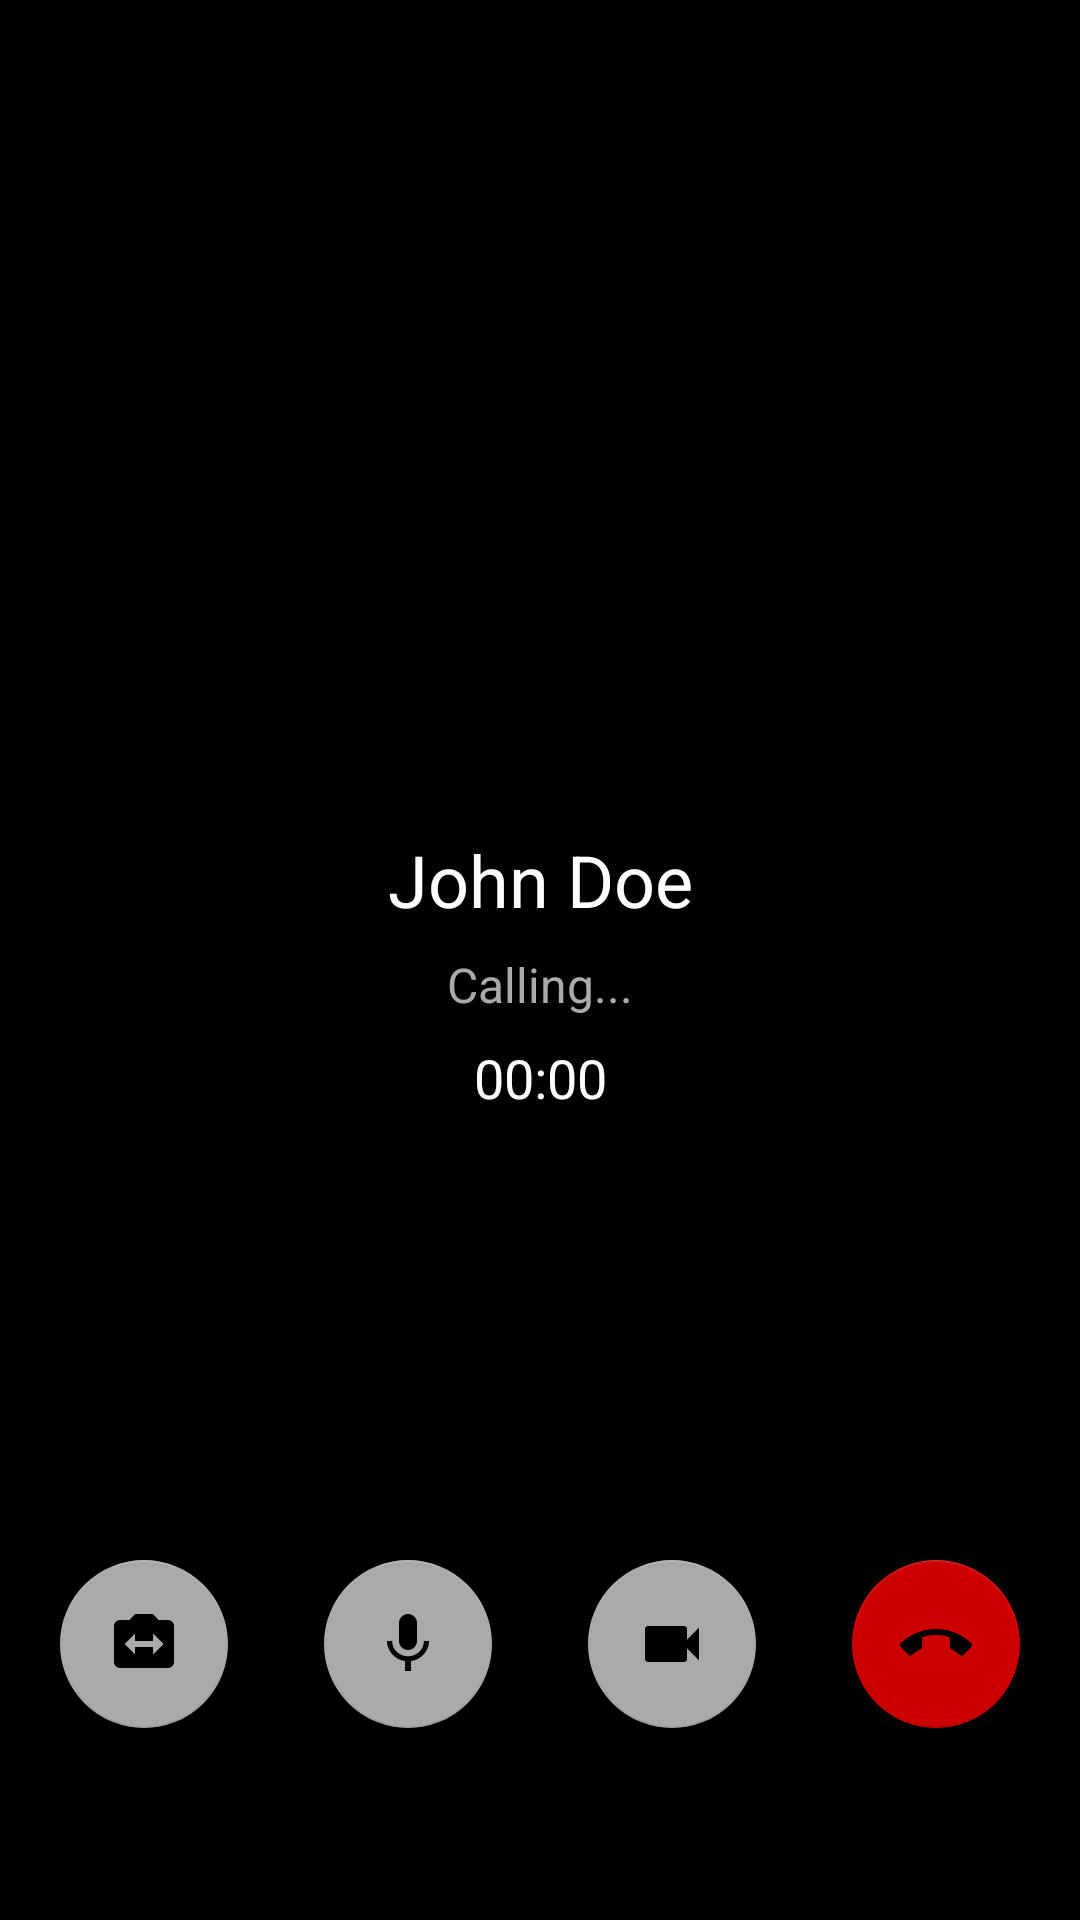

Icon bounding boxes for this 1080×1920 phone screenshot, format (x1, y1, x2, y2):
call end: (852, 1560, 1020, 1728)
mic: (324, 1560, 492, 1728)
switch camera: (60, 1560, 228, 1728)
videocam: (588, 1560, 756, 1728)
